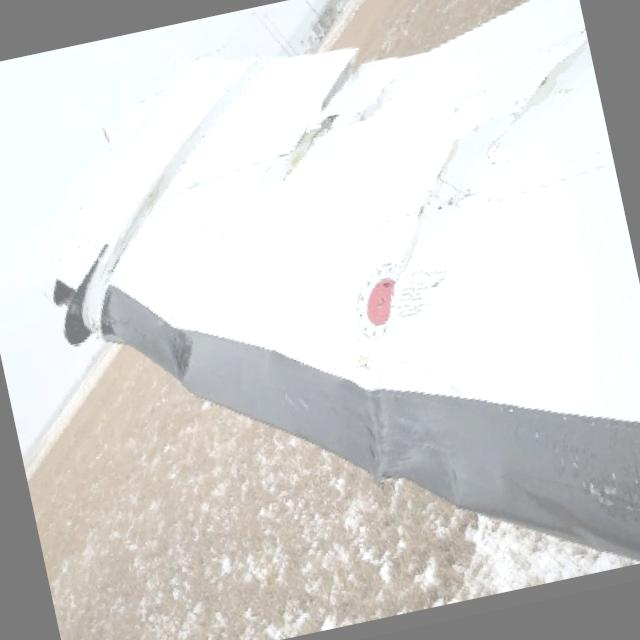crack: (258, 38, 397, 186), (466, 39, 606, 155), (372, 137, 486, 278)
